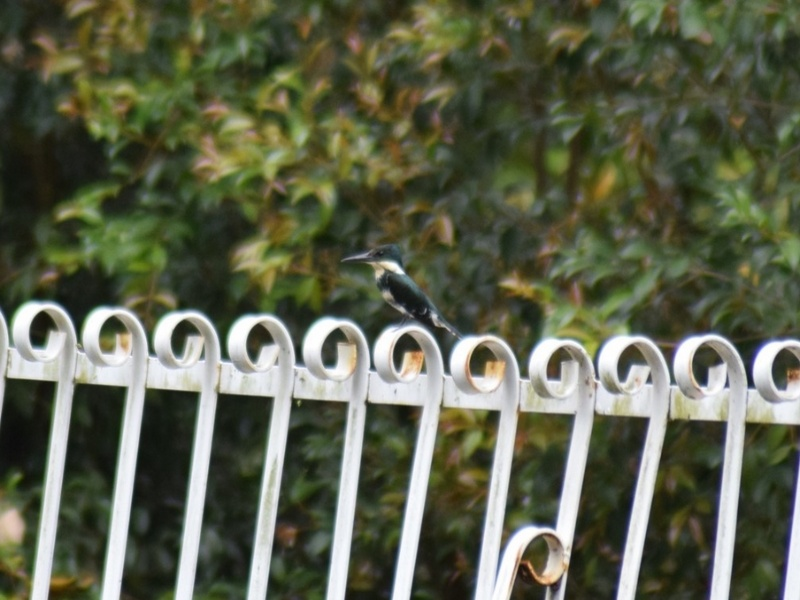kingfisher: (339, 240, 469, 347)
